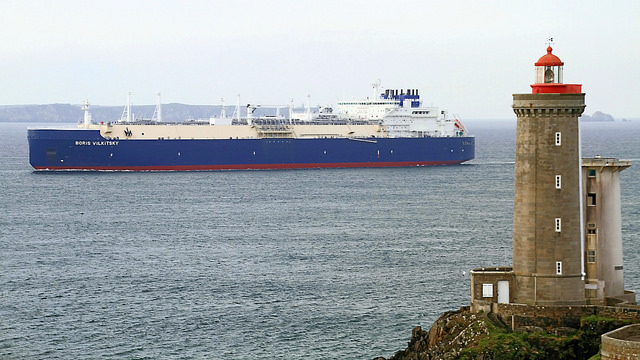LNG_ship: (32, 82, 486, 171)
